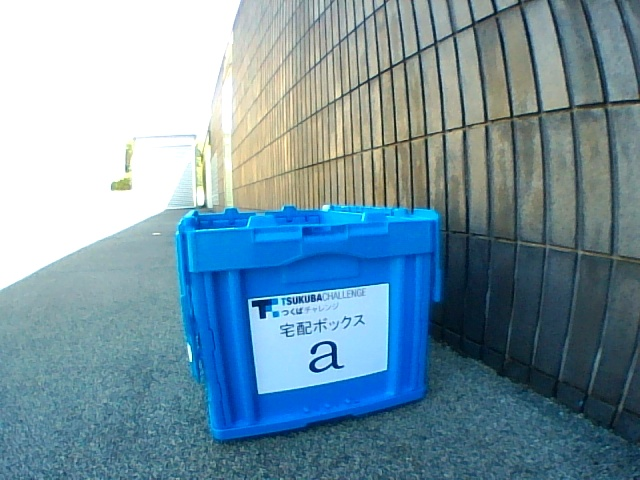blue_box: (175, 205, 441, 441)
tag_a: (269, 315, 369, 373)
